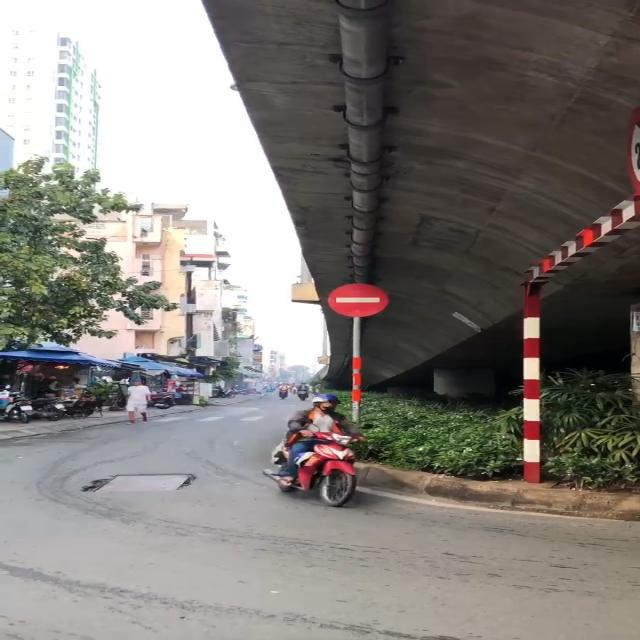Bien bao cam di nguoc chieu: (324, 279, 392, 322)
